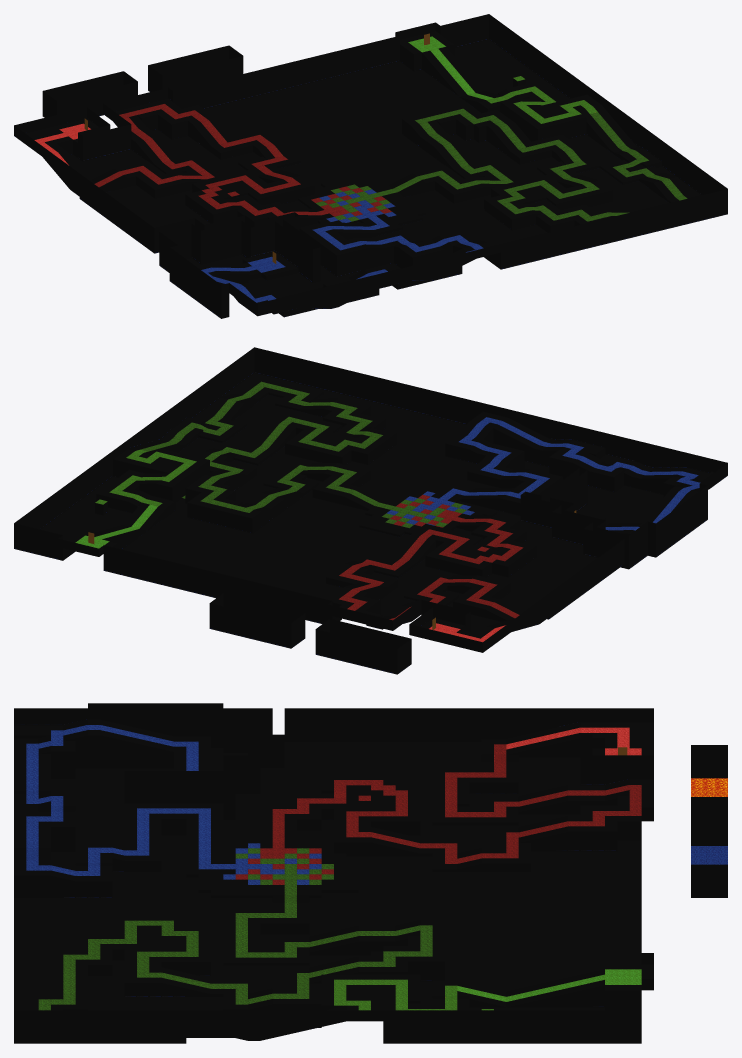
The model's file is level9.glb.
3 views of the same model, one above another, from view 1: azimuth 30°, elevation 25°; view 2: azimuth 150°, elevation 25°; view 3: azimuth 270°, elevation 25° (orthographic). The views are drawn at different scales.
Visible parts, largest first — view 1: level9; view 2: level9; view 3: level9.
Boxes of the visible parts, x1,y1,x2,y2 form: level9: (14,14,727,318); level9: (14,347,727,674); level9: (14,703,727,1043).
Bounding box in the file's own units: 59 × 4.25 × 58.
2 materials, 2 textured.
